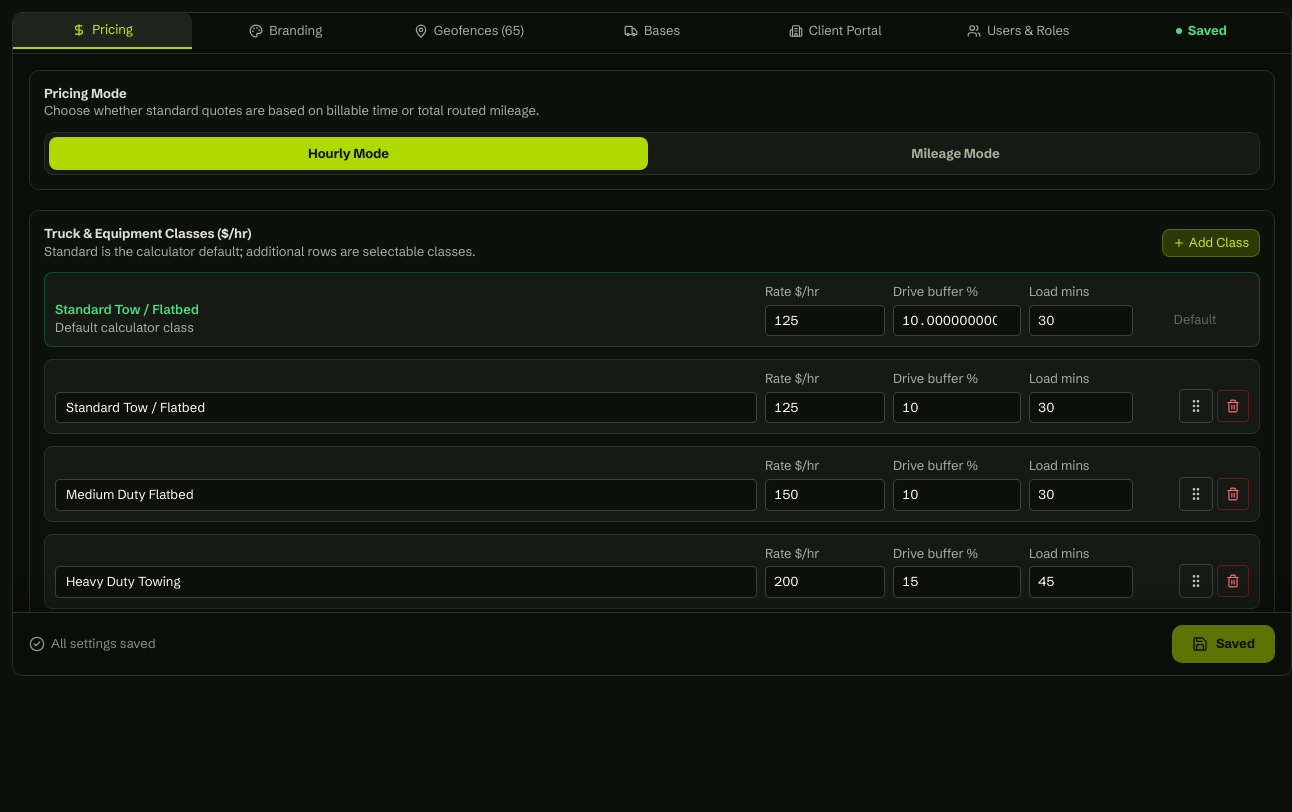
Settings unsaved-change behavior › editing again after a successful save re-enables Save
Step 1. Click the button "Mileage Mode" → (956, 153), box left=656, top=137, right=1255, bottom=170
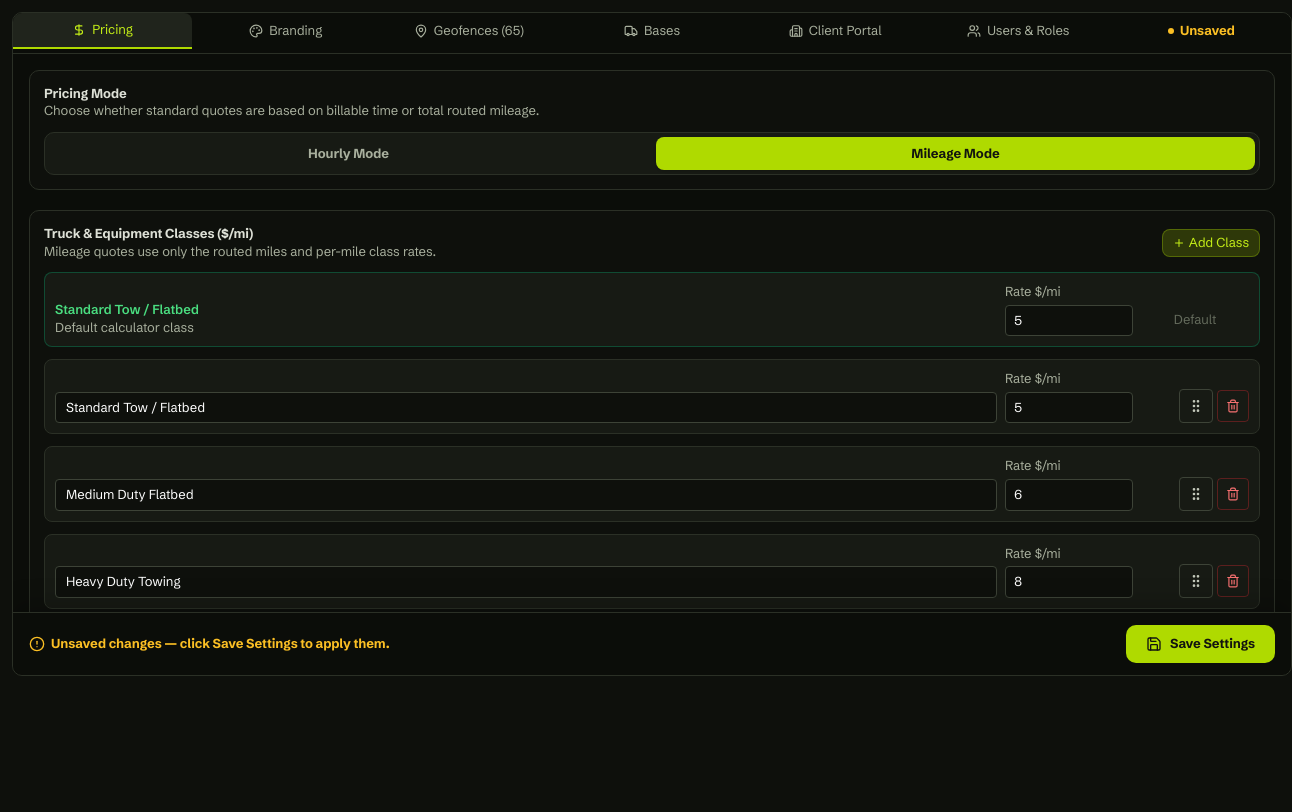
Step 2. Click the button "Save Settings" → (1200, 644), box left=1126, top=626, right=1275, bottom=663
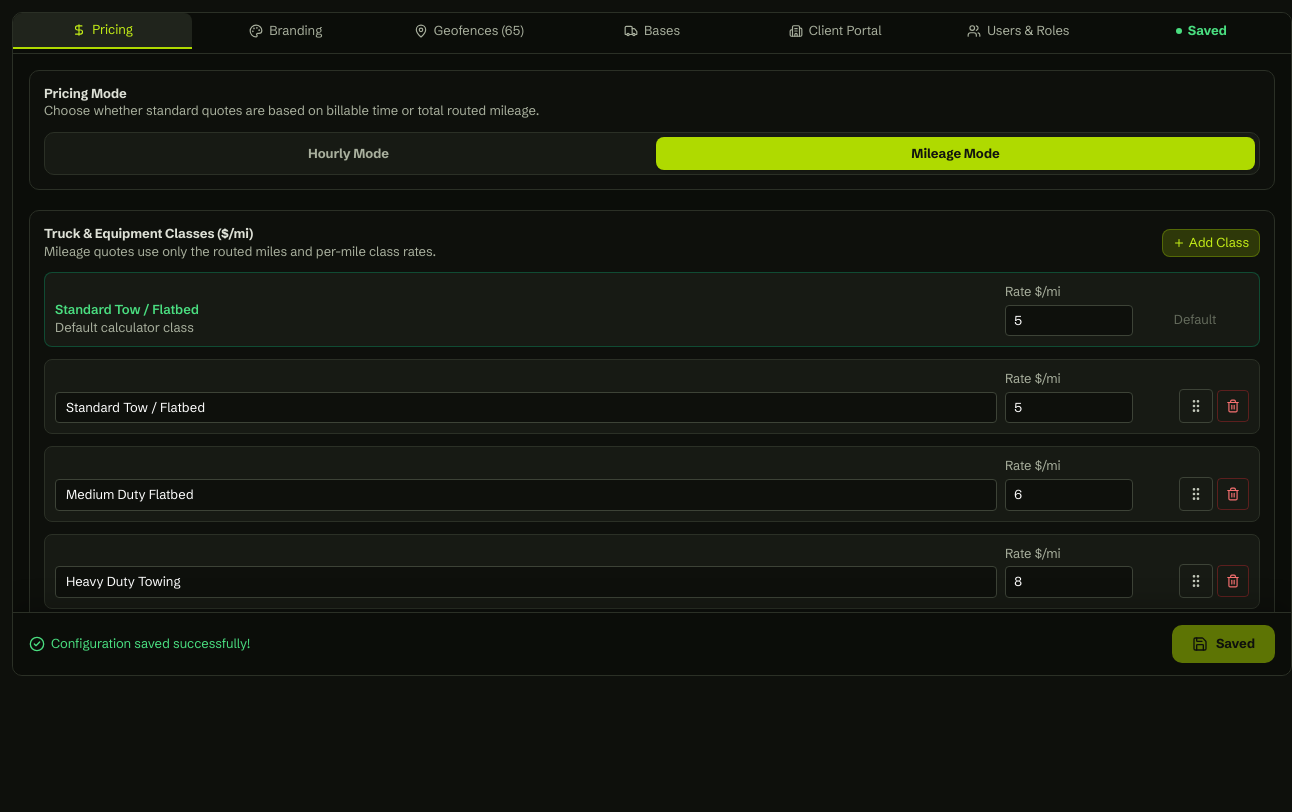
Now the button "Saved" is disabled, box left=1172, top=626, right=1275, bottom=663
Step 3. Replace the text in the 1st field with placeholder "Class Name" with "Priority Tow" → (526, 408), box left=55, top=392, right=997, bottom=423
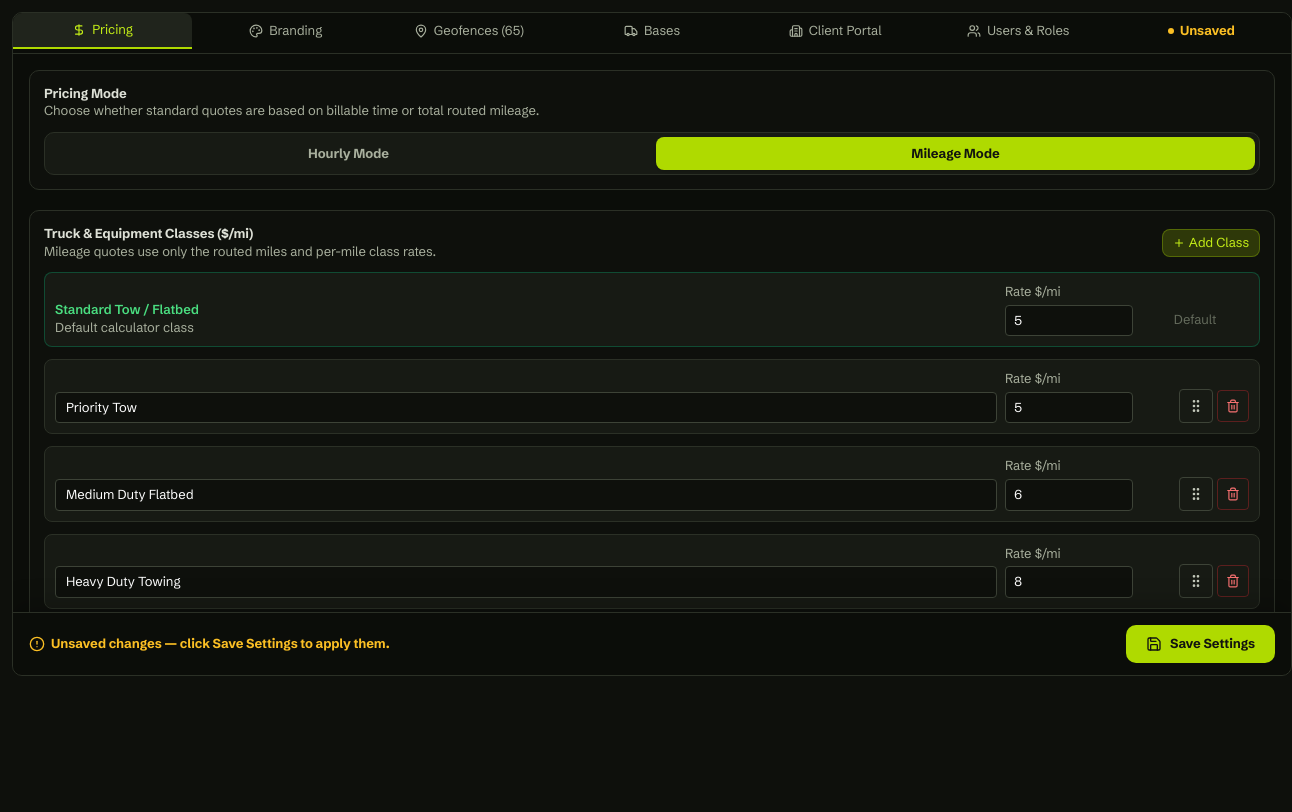
Now the button "Save Settings" is enabled, box left=1126, top=626, right=1275, bottom=663
